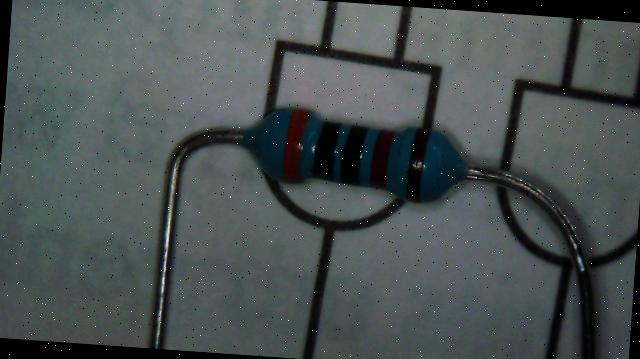black: (312, 120, 341, 179), (340, 124, 368, 184)
brown: (404, 126, 431, 201)
orange: (282, 107, 310, 182)
red: (369, 128, 394, 188)
resistor: (238, 90, 476, 222)
